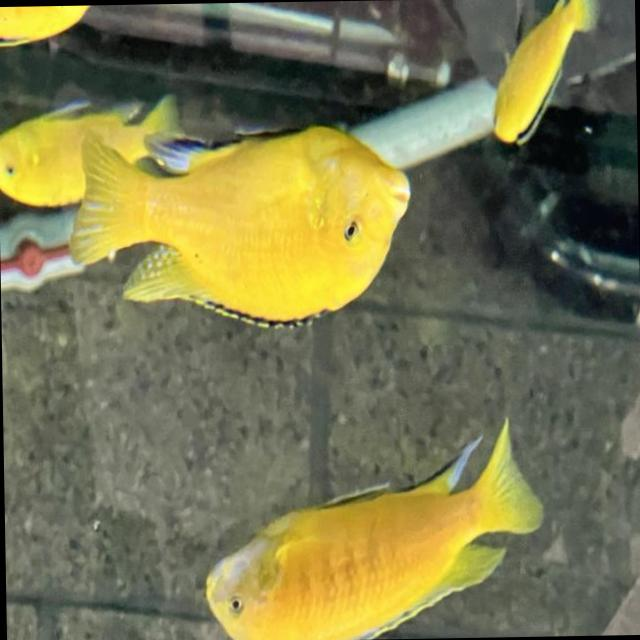YellowCichlid: (71, 89, 430, 338), (191, 427, 550, 640), (484, 0, 596, 156), (0, 100, 66, 205), (0, 3, 104, 56)
